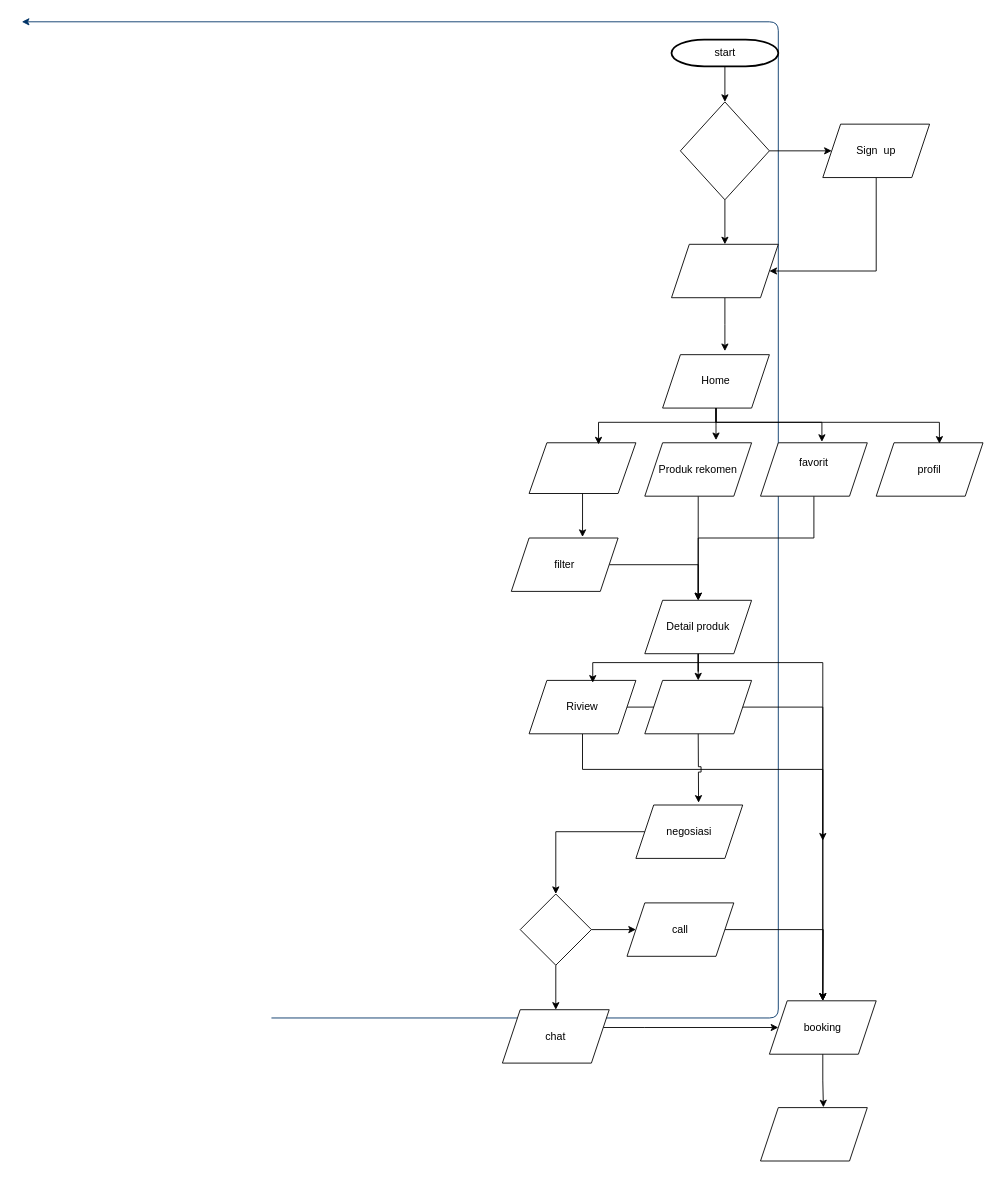
Some shapes in this 999 by 1177 pixel diagram are drawn without their labels. Here are the shapes that lost their labels. From the top down, the centre of each, then its label:
At (724,150): "have account?".
At (724,270): "Sign in".
At (582,468): "search".
At (698,707): "Owner".
At (555,929): "Contact option".
At (813,1134): "payment".
